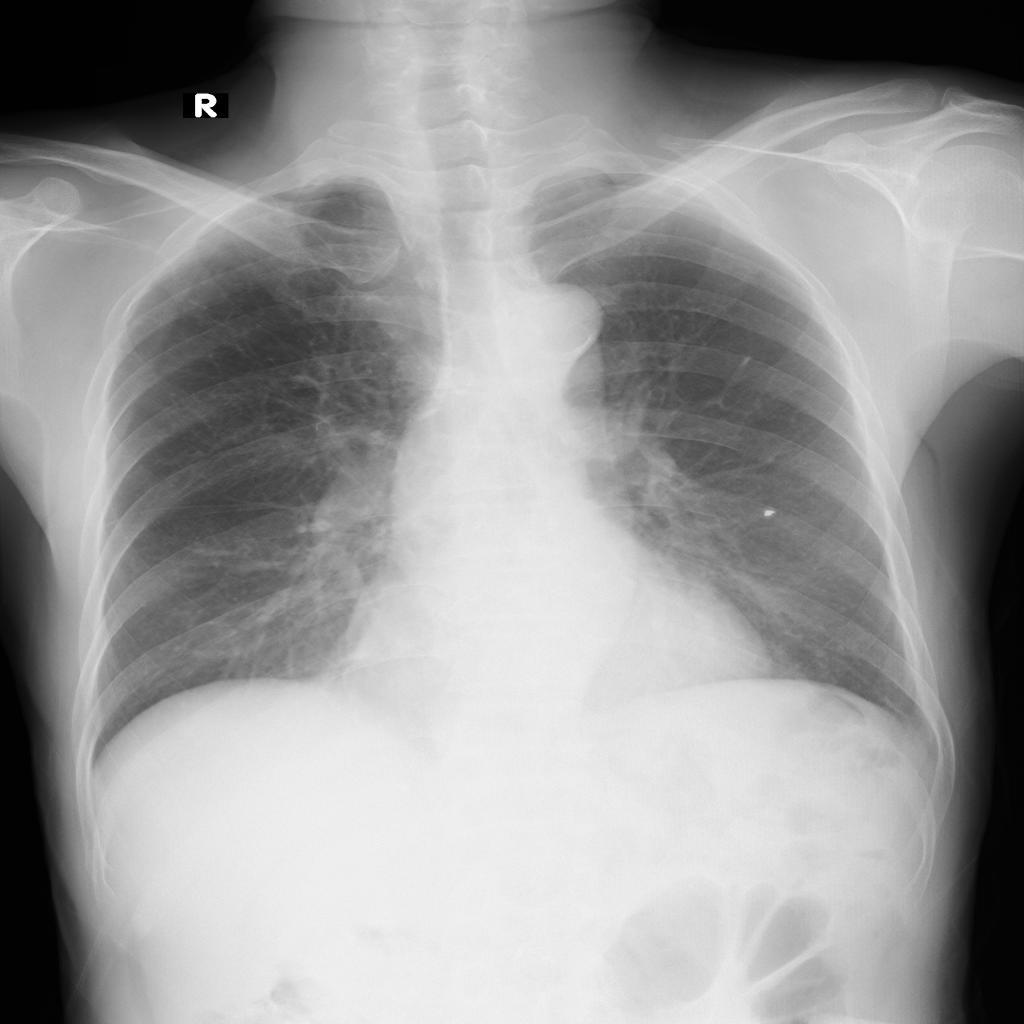Nodule: (762, 508, 776, 517)
